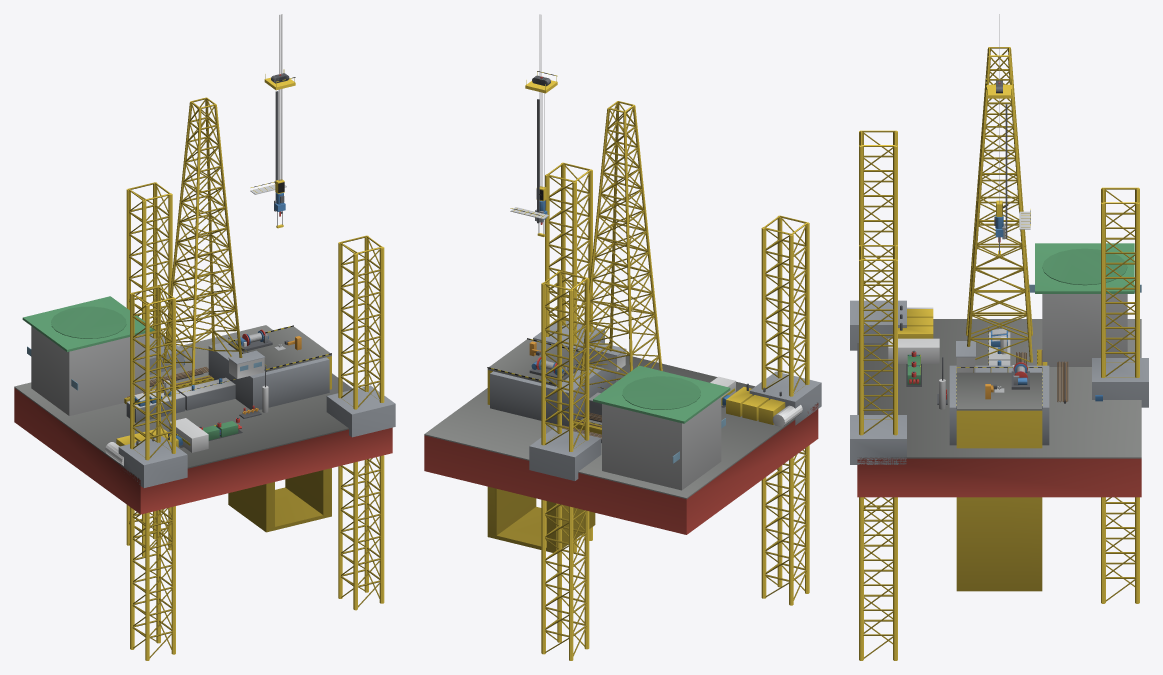
The model's file is jackup_med.glb.
The picture shows the model from 3 angles, left to right: view 1: azimuth 30°, elevation 25°; view 2: azimuth 150°, elevation 25°; view 3: azimuth 270°, elevation 25°; orthographic projection. The views are drawn at different scales.
Parts seen in each view (by area): view 1: hull__hull, hull__legs, mast__mast, mast__substructure, mast__floor, mudtanks__tanks, generators__vfd, mast__doghouse, block__travelling; view 2: hull__hull, hull__legs, mast__mast, mast__substructure, mast__floor, generators__gensets, mast__doghouse, block__travelling; view 3: hull__hull, hull__legs, mast__substructure, mast__mast, mast__floor, generators__vfd, generators__gensets, mast__doghouse, pipehandling__racker, block__crown, mudtanks__tanks, topdrive__frame.
Boxes of the visible parts, box(x1,y1,x2,y2) form: hull__hull: box(14, 296, 392, 514); hull__legs: box(118, 182, 395, 660); mast__mast: box(163, 97, 242, 383); mast__substructure: box(228, 356, 331, 532); mast__floor: box(228, 325, 331, 371); mudtanks__tanks: box(126, 377, 235, 422); generators__vfd: box(169, 418, 208, 452); mast__doghouse: box(228, 350, 265, 378); block__travelling: box(275, 14, 284, 193); hull__hull: box(424, 340, 818, 534); hull__legs: box(529, 162, 821, 660); mast__mast: box(579, 101, 662, 386); mast__substructure: box(487, 370, 595, 552); mast__floor: box(487, 338, 582, 386); generators__gensets: box(726, 383, 785, 424); mast__doghouse: box(589, 341, 626, 371); block__travelling: box(536, 14, 546, 201); hull__hull: box(857, 243, 1141, 497); hull__legs: box(850, 130, 1148, 660); mast__substructure: box(956, 410, 1042, 591); mast__mast: box(966, 47, 1032, 362); mast__floor: box(956, 367, 1042, 410); generators__vfd: box(888, 338, 939, 363); generators__gensets: box(898, 305, 933, 338); mast__doghouse: box(956, 341, 975, 372); pipehandling__racker: box(1016, 352, 1068, 403); block__crown: box(986, 78, 1012, 98); mudtanks__tanks: box(988, 326, 1010, 365); topdrive__frame: box(1002, 104, 1007, 239).
Size of what is drawn, in the model's own units: 46.33 by 96.6 by 42.
